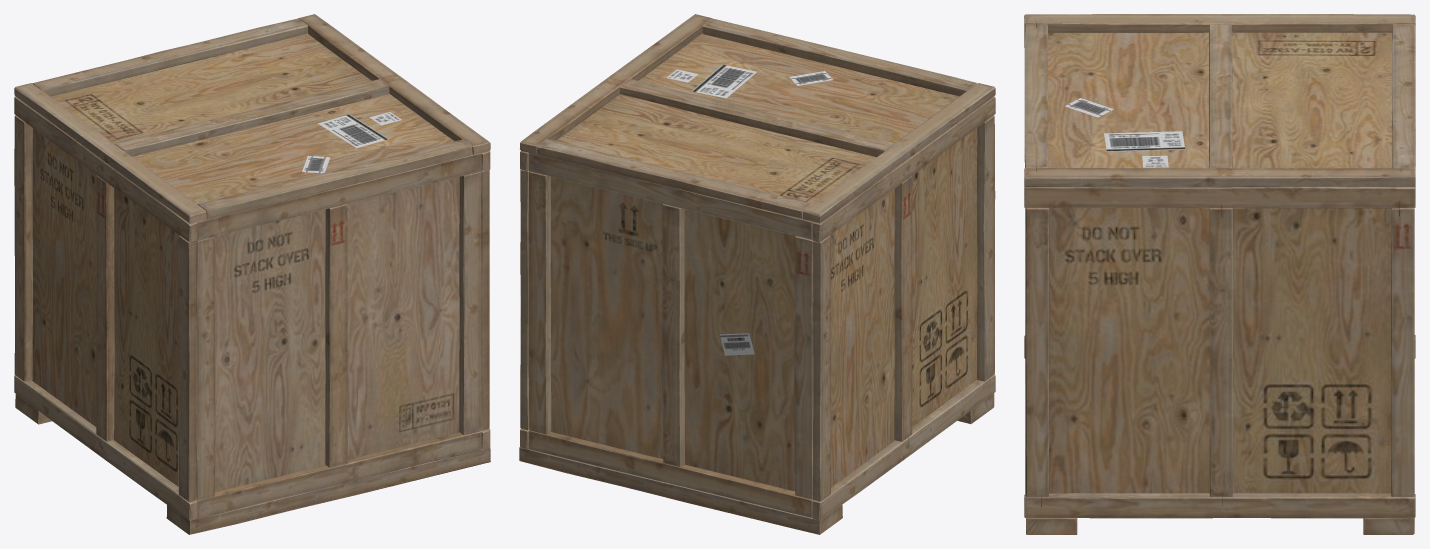
The model's file is shelter_b_crate.glb.
The picture shows the model from 3 angles, left to right: view 1: azimuth 30°, elevation 25°; view 2: azimuth 150°, elevation 25°; view 3: azimuth 270°, elevation 25°; orthographic projection. The views are drawn at different scales.
Visible parts, largest first — view 1: shelter_b_crate; view 2: shelter_b_crate; view 3: shelter_b_crate.
Boxes of the visible parts, bbox=[...] form: shelter_b_crate: bbox=[14, 14, 490, 534]; shelter_b_crate: bbox=[519, 14, 995, 534]; shelter_b_crate: bbox=[1024, 14, 1415, 534].
Bounding box in the file's own units: 0.9994 × 1.01 × 1.
Materials: 3 (3 with a texture image).
